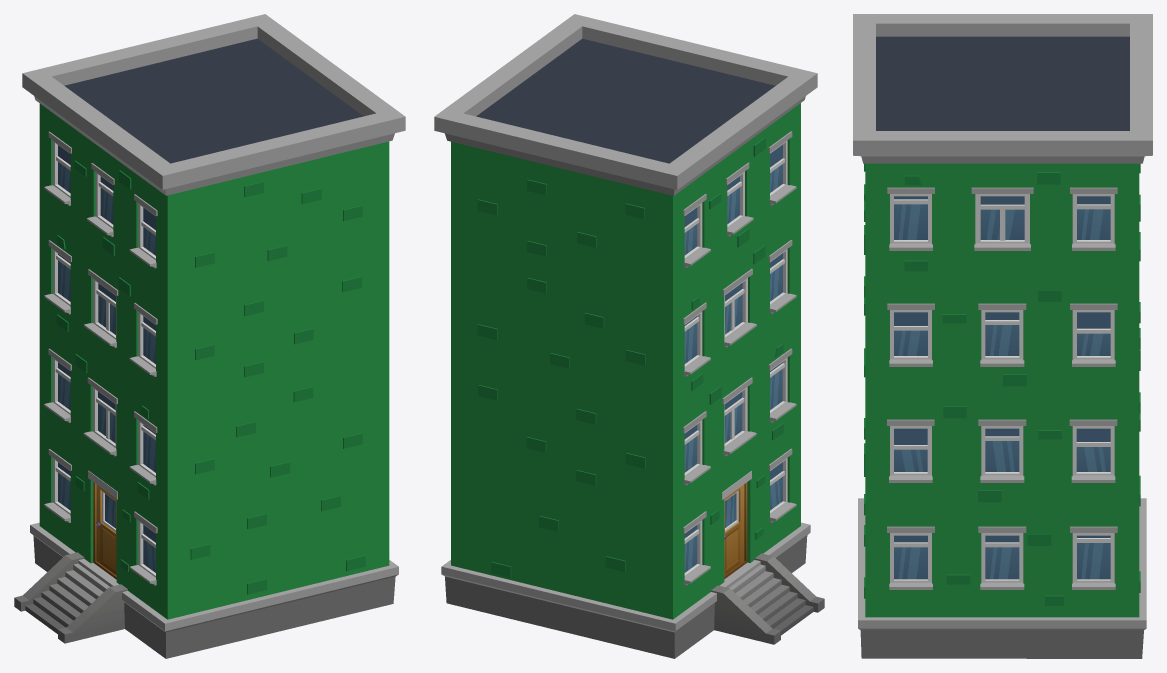
File: Building_2_2_F.fbx
3 views of the same model, side by side, from view 1: azimuth 30°, elevation 25°; view 2: azimuth 150°, elevation 25°; view 3: azimuth 270°, elevation 25° (orthographic). The views are drawn at different scales.
Parts seen in each view (by area): view 1: Building_2_2_F; view 2: Building_2_2_F; view 3: Building_2_2_F.
Part boxes in pixels (x1,y1,x2,y2): Building_2_2_F: [14, 14, 405, 658]; Building_2_2_F: [434, 14, 824, 658]; Building_2_2_F: [853, 14, 1152, 658].
Size of the model in its own units: 754 by 1191 by 620.
